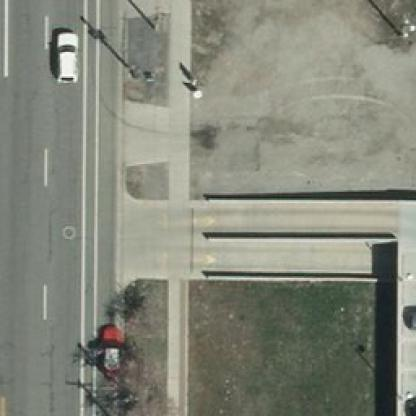car: (98, 322, 126, 377), (53, 30, 78, 82)
